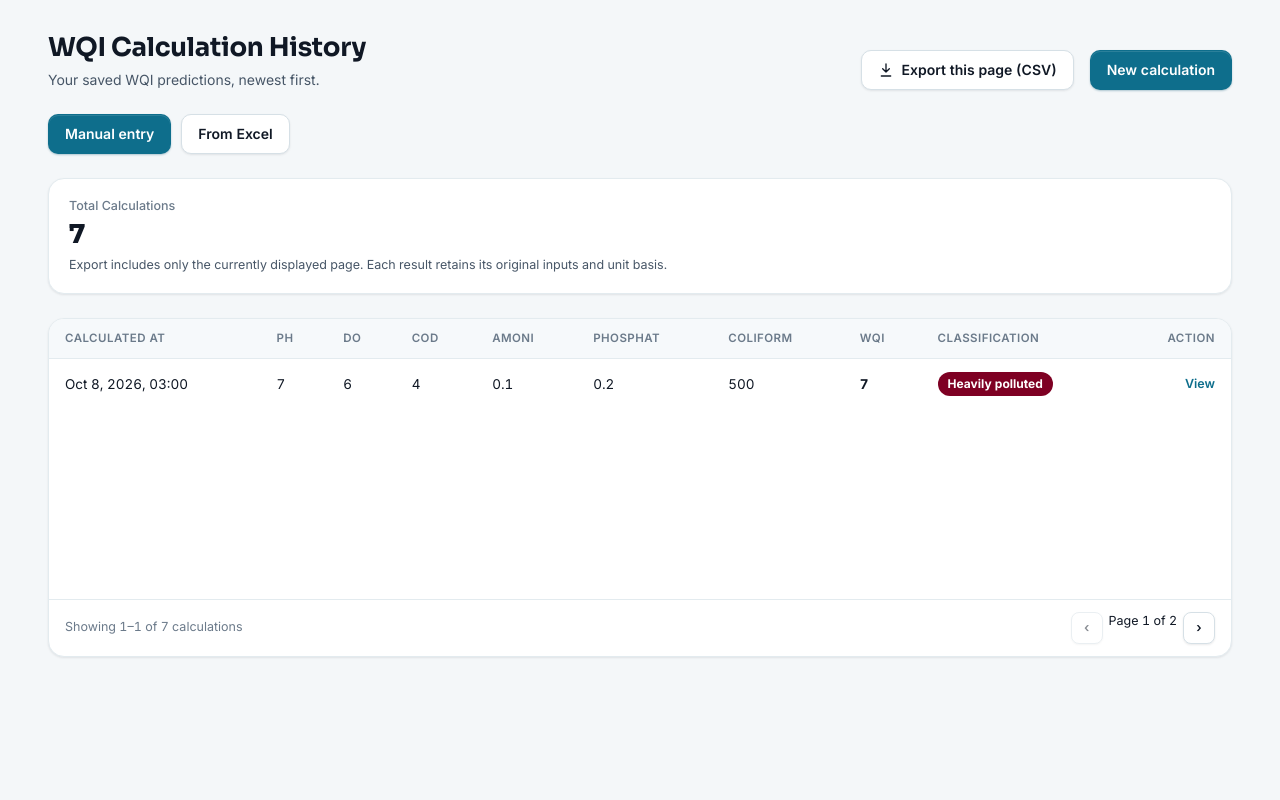
Test: prediction screens › loads the requested history page and uses the server total
Expected: the text "Showing 1–1 of 7 calculations" is shown, [65,618,243,637]
Click the button named "Next page": (1199, 628) [1183,612,1215,644]
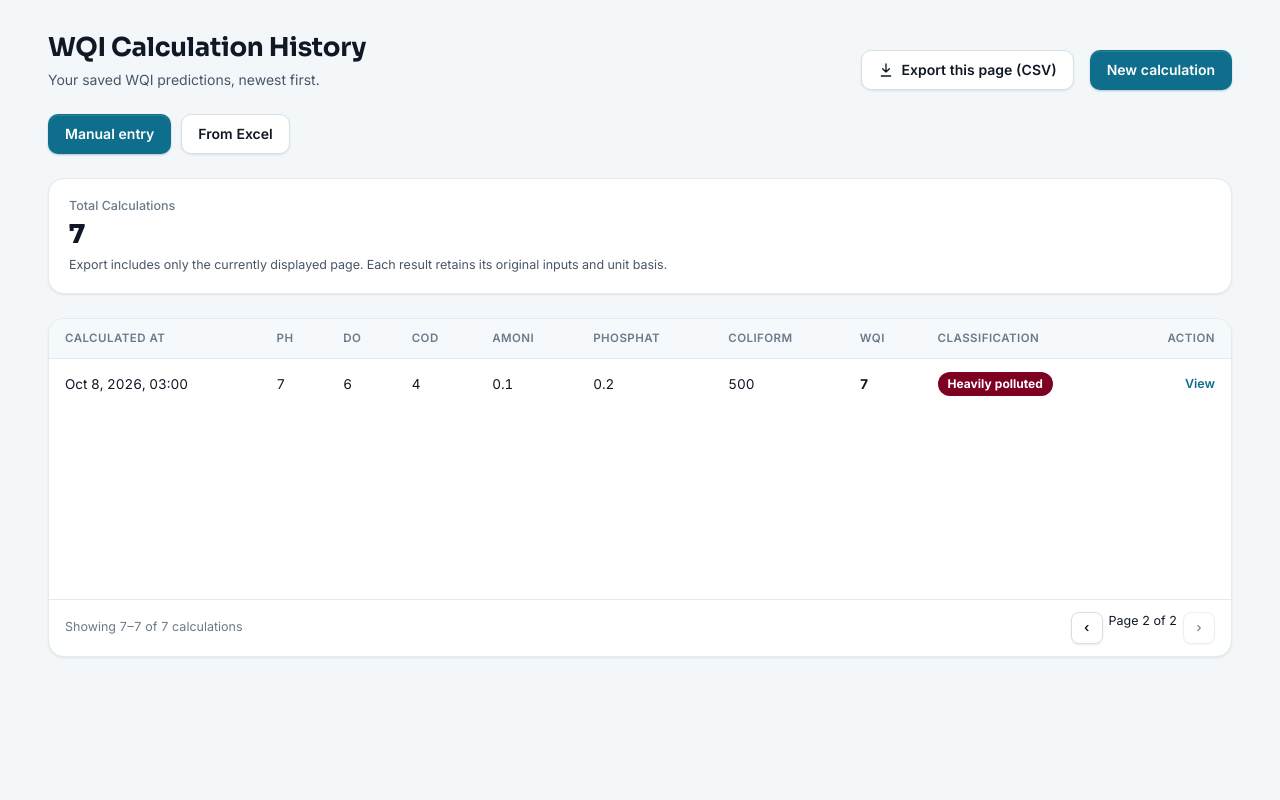
Expected: the text "Showing 7–7 of 7 calculations" is shown, [65,618,243,637]
